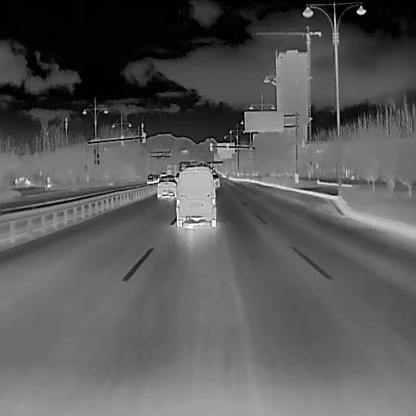car: (175, 166, 216, 227), (157, 175, 176, 198), (147, 173, 158, 184), (212, 174, 218, 186)
